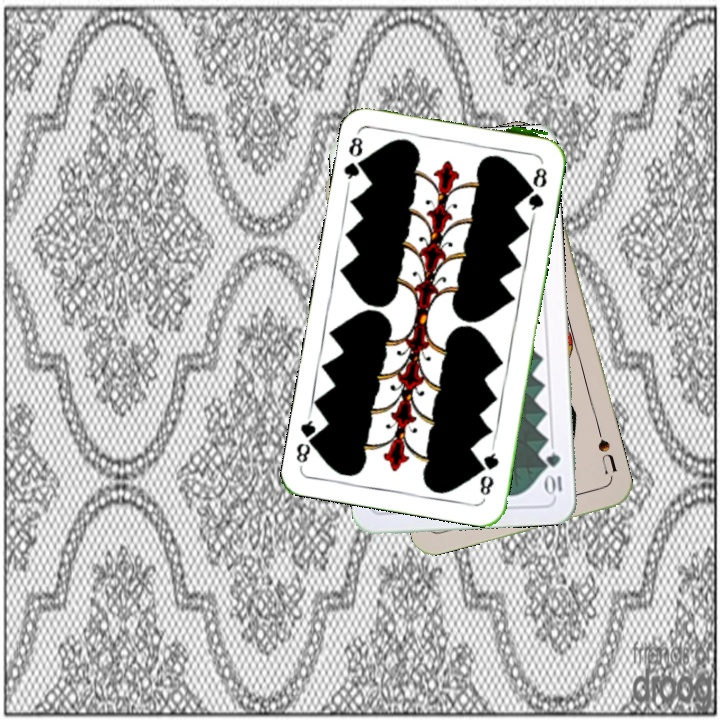G10: (542, 448, 565, 499)
G8: (340, 125, 370, 182), (475, 442, 501, 499)
SU: (593, 425, 620, 477)
